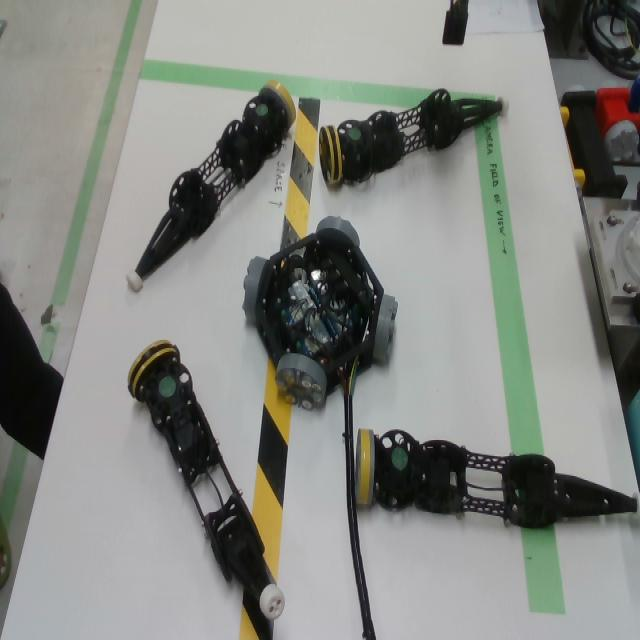body: (255, 235, 384, 396)
body_connector: (275, 353, 328, 412), (372, 295, 398, 371), (242, 256, 268, 327), (316, 216, 361, 248)
leg: (128, 340, 286, 640), (126, 80, 296, 292), (355, 429, 640, 529), (318, 88, 511, 185)
leg_connector: (128, 339, 180, 404), (260, 80, 297, 128), (355, 429, 375, 507), (318, 125, 342, 184)
leg_marker: (391, 447, 409, 472), (158, 375, 176, 399), (348, 129, 362, 140), (256, 104, 268, 116)
